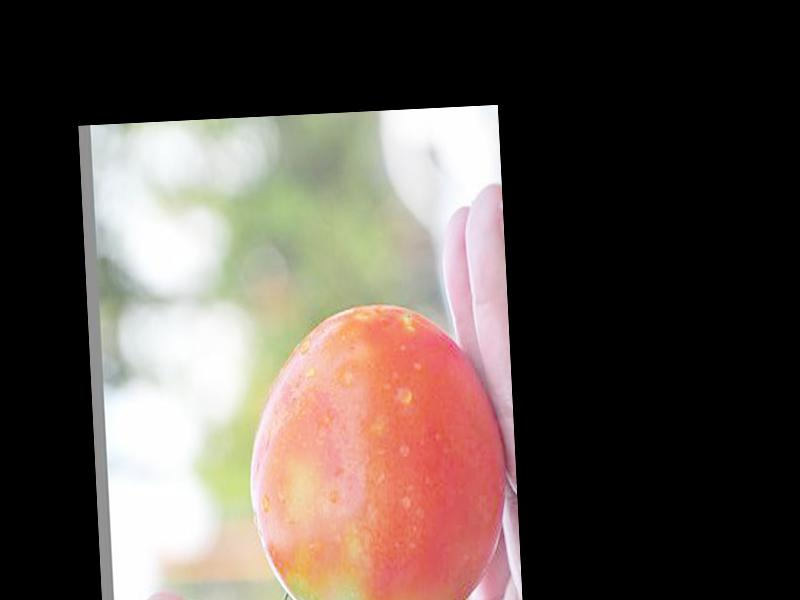Tomato: (241, 300, 510, 600)
